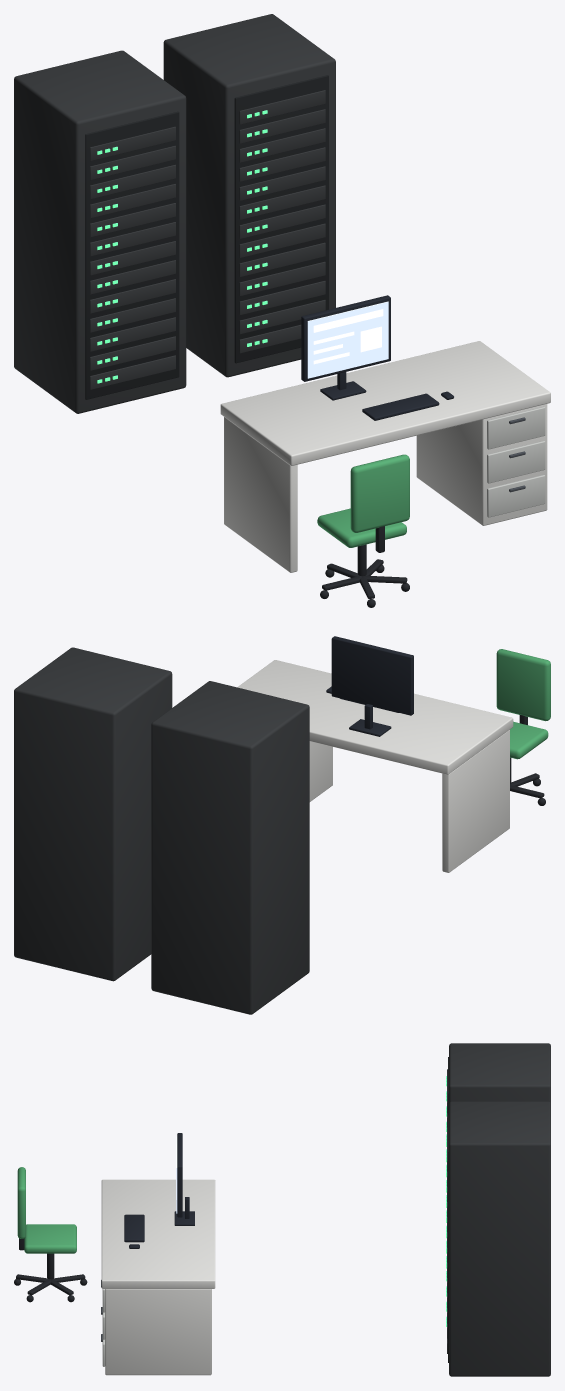
Rendered from station-deps.glb.
3 views of the same model, one above another, from view 1: azimuth 30°, elevation 25°; view 2: azimuth 150°, elevation 25°; view 3: azimuth 270°, elevation 25° (orthographic). The views are drawn at different scales.
Visible parts, largest first — view 1: RackBody, RackBody.001, DeskTop.004, RackFace, RackFace.001, PanelLeg.006, Pedestal.002, ChairBack.001, Screen.006, DrawerFront.008, DrawerFront.006, DrawerFront.007 (+29 smaller); view 2: RackBody, RackBody.001, DeskTop.004, PanelLeg.006, MonitorFrame.005, ChairBack.001, Pedestal.002, ChairSeat.001; view 3: RackBody.001, DeskTop.004, Pedestal.002, RackBody, ChairSeat.001, ChairBack.001, Keyboard.004, MonitorFrame.005.
Boxes of the visible parts, x1=… form: RackBody: x1=14, y1=50, x2=186, y2=413; RackBody.001: x1=163, y1=14, x2=335, y2=377; DeskTop.004: x1=220, y1=341, x2=550, y2=465; RackFace: x1=85, y1=111, x2=179, y2=399; RackFace.001: x1=234, y1=75, x2=328, y2=363; PanelLeg.006: x1=224, y1=417, x2=297, y2=572; Pedestal.002: x1=416, y1=404, x2=547, y2=525; ChairBack.001: x1=350, y1=454, x2=409, y2=532; Screen.006: x1=307, y1=301, x2=388, y2=378; DrawerFront.008: x1=487, y1=406, x2=545, y2=449; DrawerFront.006: x1=487, y1=474, x2=545, y2=517; DrawerFront.007: x1=487, y1=440, x2=545, y2=483; RackBody: x1=151, y1=681, x2=309, y2=1014; RackBody.001: x1=14, y1=647, x2=172, y2=981; DeskTop.004: x1=237, y1=660, x2=513, y2=774; PanelLeg.006: x1=442, y1=730, x2=509, y2=872; MonitorFrame.005: x1=331, y1=636, x2=413, y2=715; ChairBack.001: x1=496, y1=649, x2=550, y2=721; Pedestal.002: x1=309, y1=741, x2=332, y2=801; ChairSeat.001: x1=510, y1=721, x2=548, y2=759; RackBody.001: x1=449, y1=1101, x2=550, y2=1376; DeskTop.004: x1=101, y1=1179, x2=215, y2=1288; Pedestal.002: x1=105, y1=1289, x2=211, y2=1375; RackBody: x1=449, y1=1043, x2=550, y2=1103; ChairSeat.001: x1=24, y1=1224, x2=76, y2=1253; ChairBack.001: x1=17, y1=1167, x2=25, y2=1238; Keyboard.004: x1=124, y1=1214, x2=144, y2=1242; MonitorFrame.005: x1=177, y1=1133, x2=182, y2=1217.
Size of the model in its own units: 2.04 by 2.15 by 4.48.
